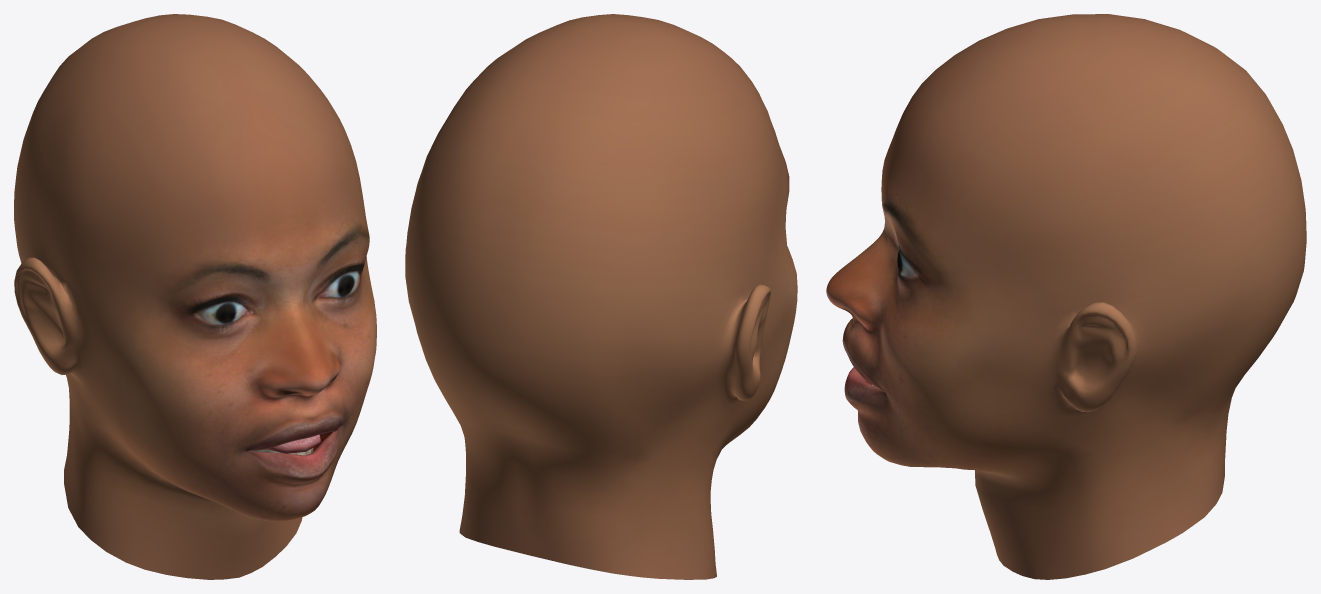
File: v332_obj_Phonemeth.obj
3 renders of one model, left to right at view 1: azimuth 30°, elevation 25°; view 2: azimuth 150°, elevation 25°; view 3: azimuth 270°, elevation 25°, orthographic. The views are drawn at different scales.
Visible parts, largest first — view 1: HeadHires, Mouth; view 2: HeadHires; view 3: HeadHires.
Part boxes in pixels (x1=…): HeadHires: x1=14, y1=14, x2=376, y2=579; Mouth: x1=249, y1=431, x2=332, y2=455; HeadHires: x1=405, y1=14, x2=797, y2=579; HeadHires: x1=826, y1=14, x2=1306, y2=579.
Size of the model in its own units: 187 by 282 by 233.
